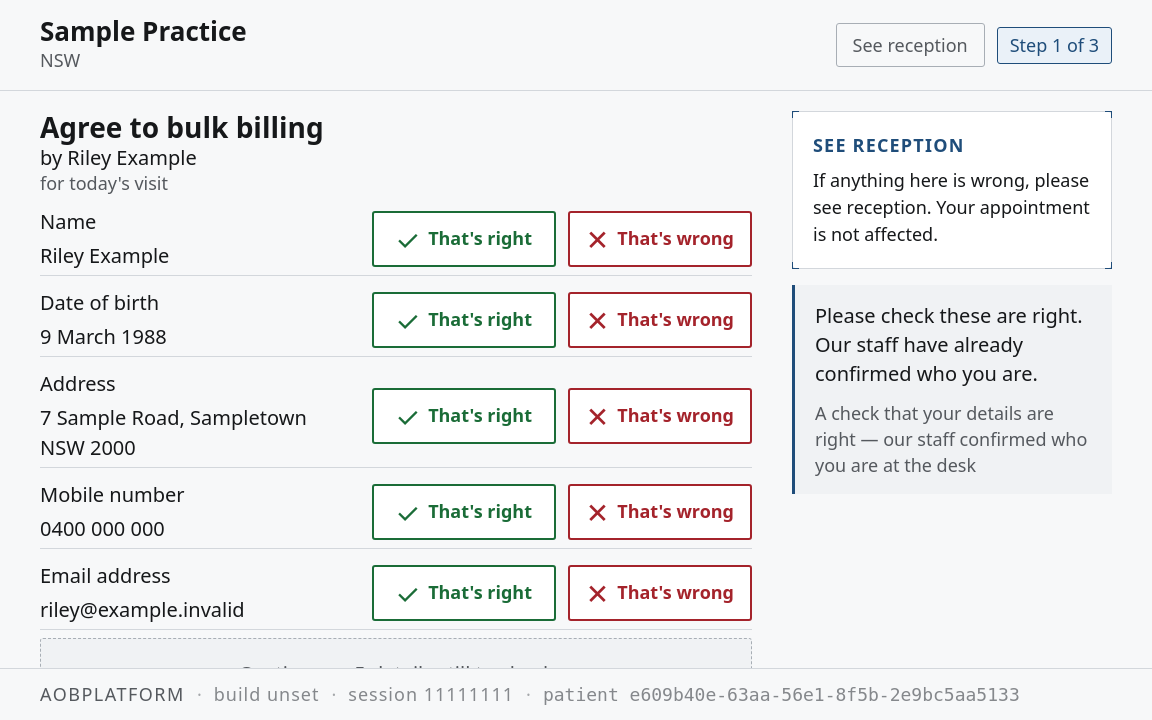
Scenario: walked_away_posts_state_and_changes_nothing_else › ends the session and leaves the agreement exactly where it was
The width and height of the screenshot is (1152, 720).
Expected: the heading "Agree to bulk billing" is shown, [40,108,324,146]
Click the button with test id "leave-for-reception" at (910, 45), box [836,23,985,67]
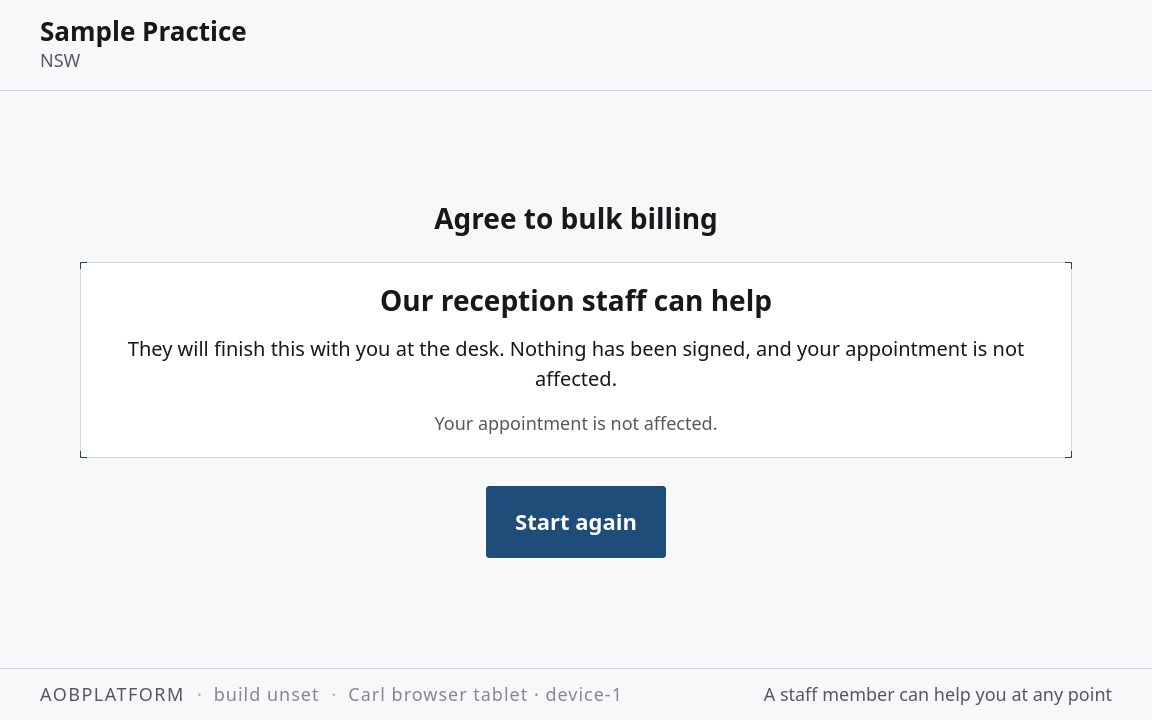
Result: the heading with test id "handover-heading" reads "Our reception staff can help" at [380,281,772,319]
Result: the text "Riley Example" is gone
